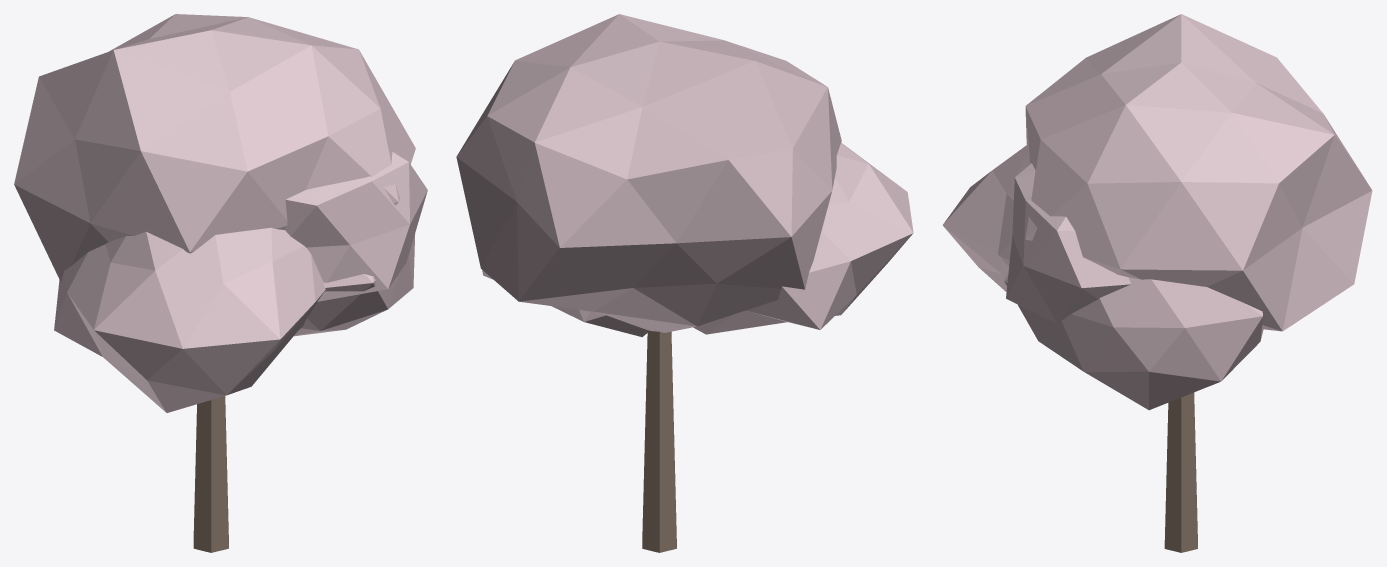
Rendered from HK_Tree_Sakura.glb.
3 renders of one model, left to right at view 1: azimuth 30°, elevation 25°; view 2: azimuth 150°, elevation 25°; view 3: azimuth 270°, elevation 25°, orthographic. The views are drawn at different scales.
Parts seen in each view (by area): view 1: HK_Tree_Sakura; view 2: HK_Tree_Sakura; view 3: HK_Tree_Sakura.
Part boxes in pixels (left/top/right/bottom): HK_Tree_Sakura: left=14, top=14, right=427, bottom=552; HK_Tree_Sakura: left=456, top=14, right=913, bottom=552; HK_Tree_Sakura: left=942, top=14, right=1372, bottom=552.
Size of the model in its own units: 4.11 by 5.6 by 4.49.
